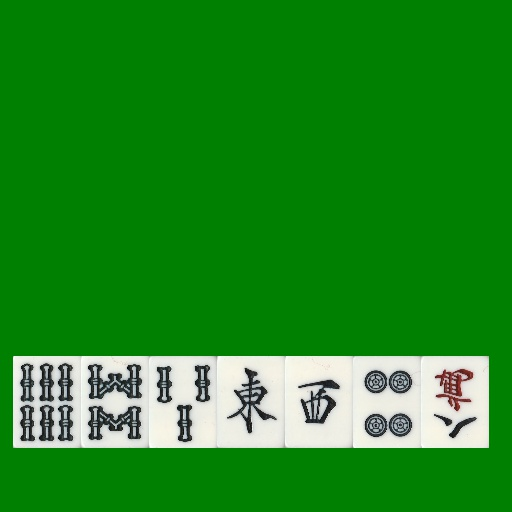3s: (149, 356, 217, 448)
4p: (353, 356, 421, 448)
6s: (13, 356, 81, 448)
8m: (421, 356, 489, 448)
8s: (81, 356, 149, 448)
east: (217, 356, 285, 448)
west: (285, 356, 353, 448)
